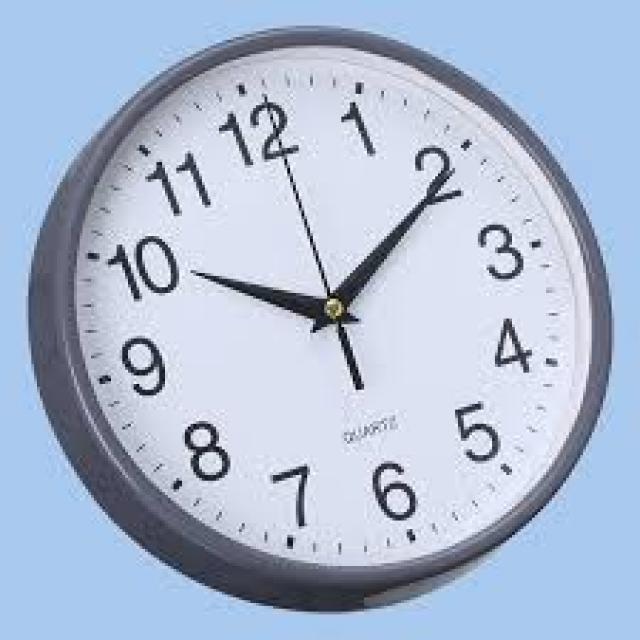Clocks-images: (25, 22, 616, 616)
